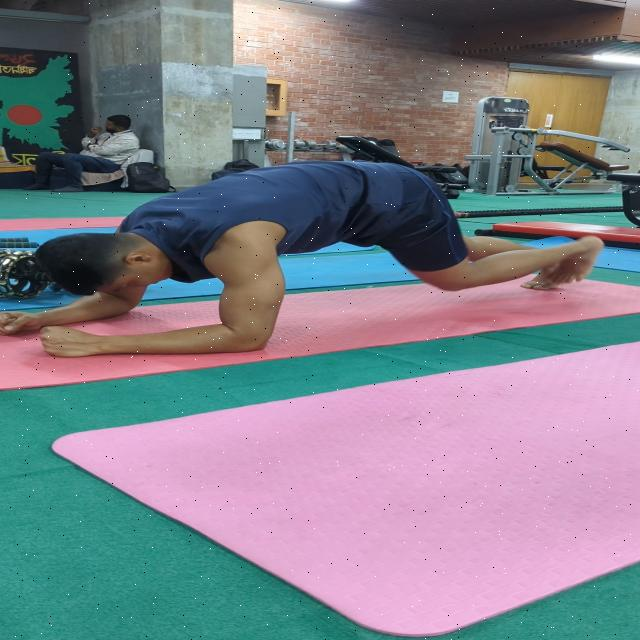Normal_MountainClimbers: (0, 121, 633, 355)
